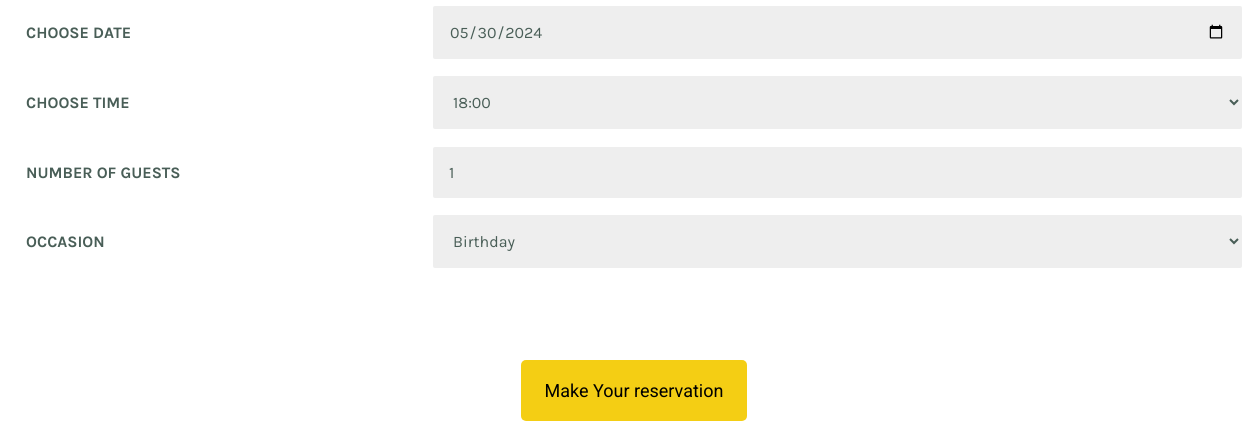
Test case: BookingForm › renders error message when time select is invalid
Select "Select a time" in the dropdown labelled "Choose time". click: (837, 103)
box: [433,76,1242,129]
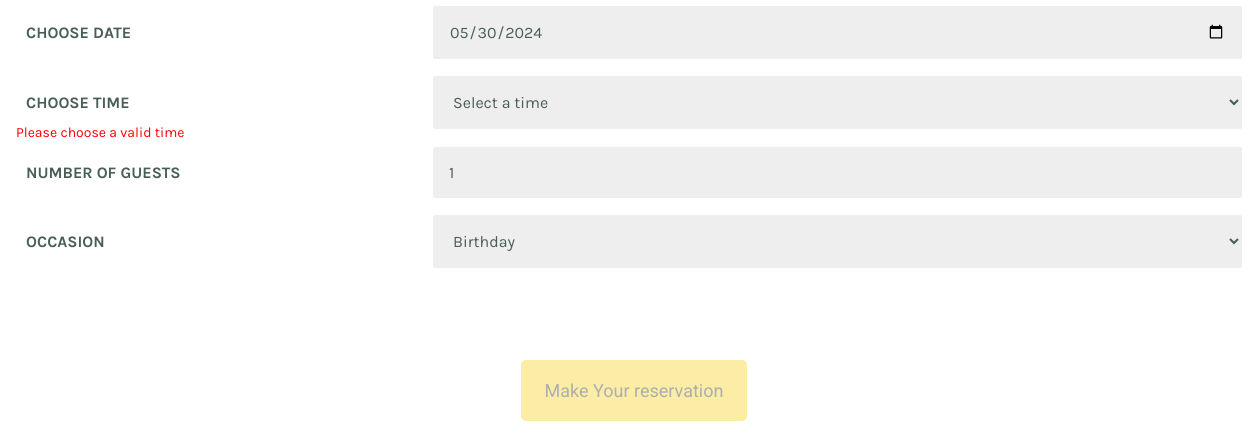
Expected: the text "Please choose a valid time" is shown, [16,124,184,140]
